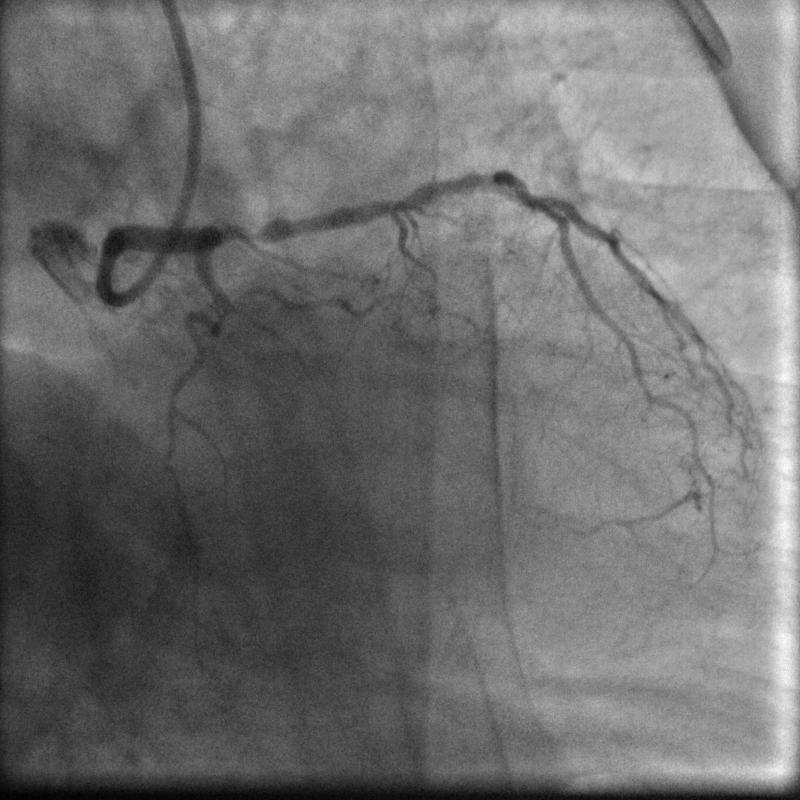Stenosis: (220, 216, 272, 250)
